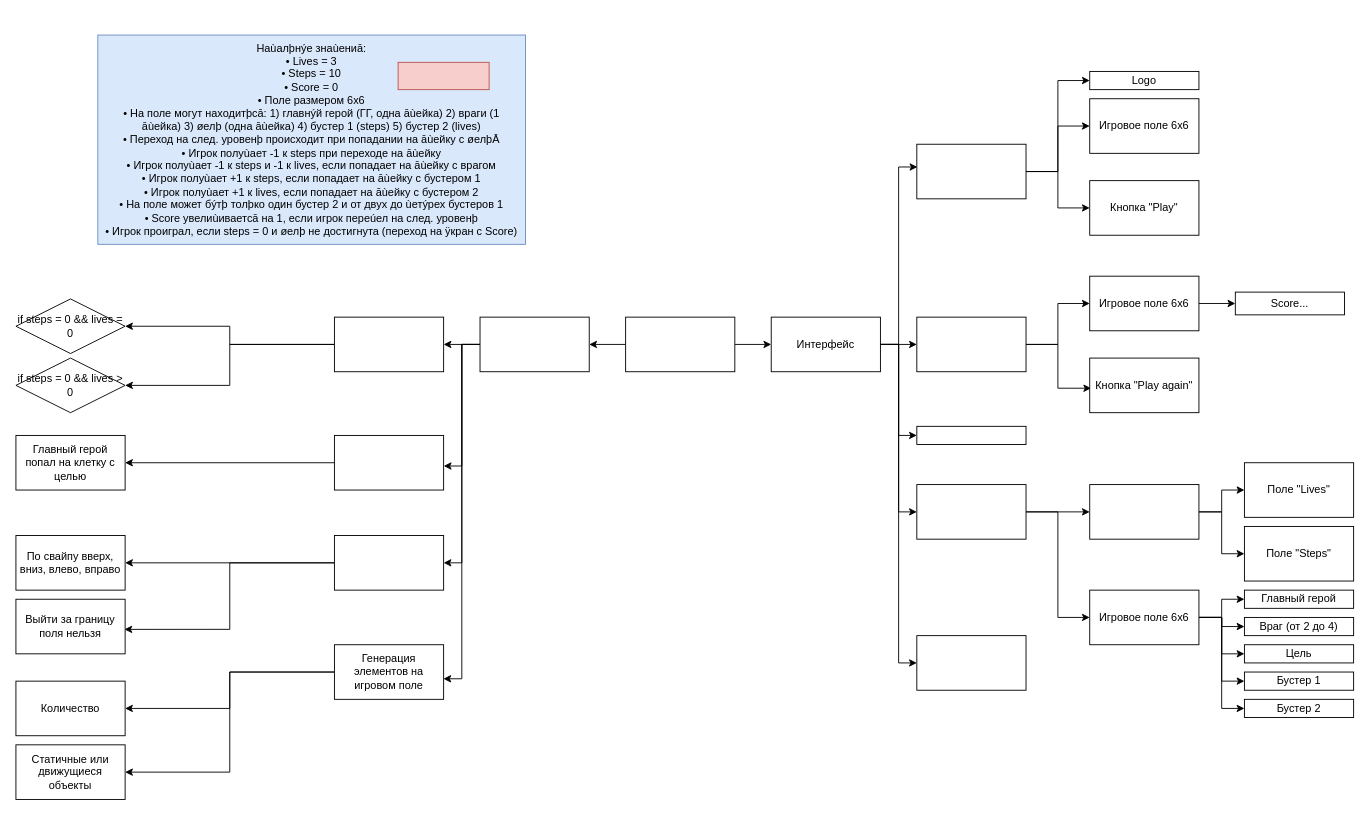
Image size: 1370x815. Some labels were removed from this diagram. The shapes that lost their labels are listed below. From the top down, each one's centre as x and y in pixels, then its label:
the point at 443,75: Чек-лист на Wolfs&Rabbits
the point at 971,171: Start screen
the point at 389,344: Проигрыш
the point at 534,344: Логика
the point at 680,344: Wolfs&Rabbits
the point at 971,344: Death Screen
the point at 971,435: Localization
the point at 389,462: Победа
the point at 971,511: Playmode screen
the point at 1144,511: Счет игрока
the point at 389,562: Перемещение по игровому полю
the point at 971,662: Ориентация экрана
